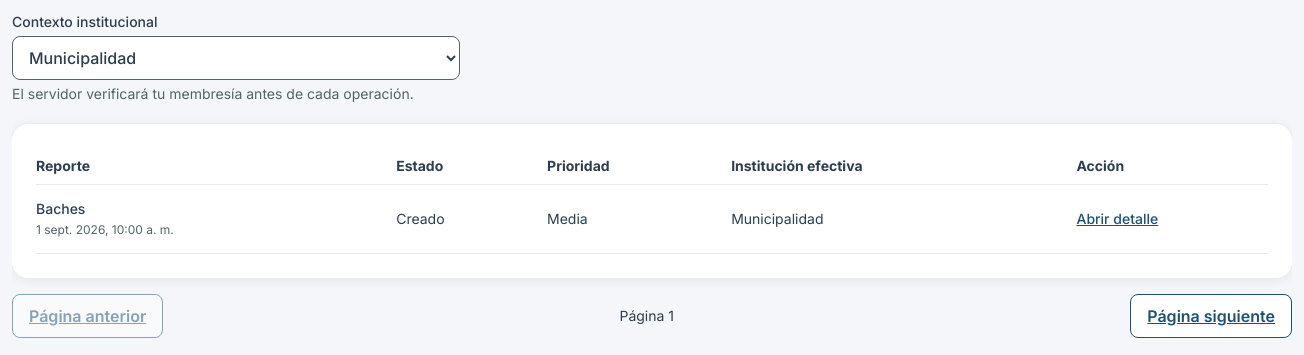
Test: interfaz institucional S9-B2 › navega a la segunda página sin duplicar la primera y detecta el final
The image size is (1304, 355).
Check: the text "Baches" is shown, box x1=36 y1=200 x2=85 y2=217
Check: the button "Página anterior" is disabled, box x1=12 y1=294 x2=163 y2=338
Click the button "Página siguiente".
click(1211, 316)  # box x1=1130 y1=294 x2=1292 y2=338
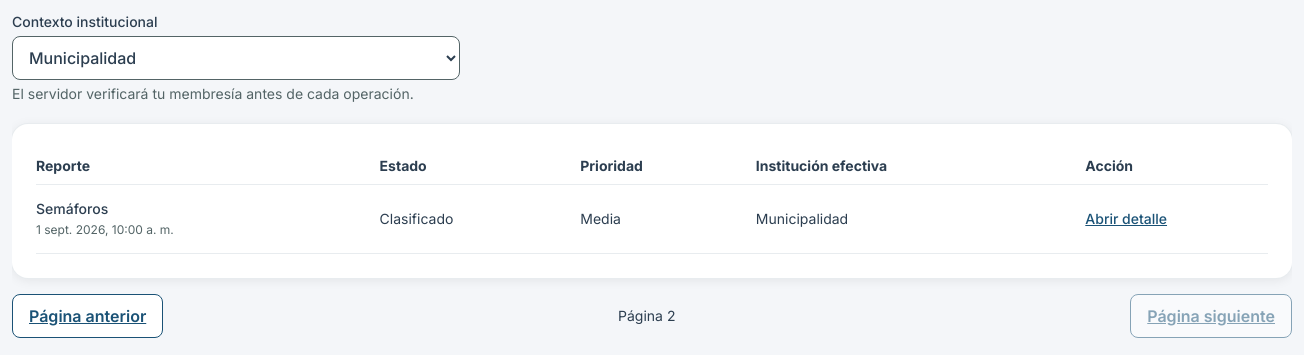
Check: the text "Semáforos" is shown, box x1=36 y1=200 x2=108 y2=217
Check: the text "Baches" is gone
Check: the button "Página siguiente" is disabled, box x1=1130 y1=294 x2=1292 y2=338
